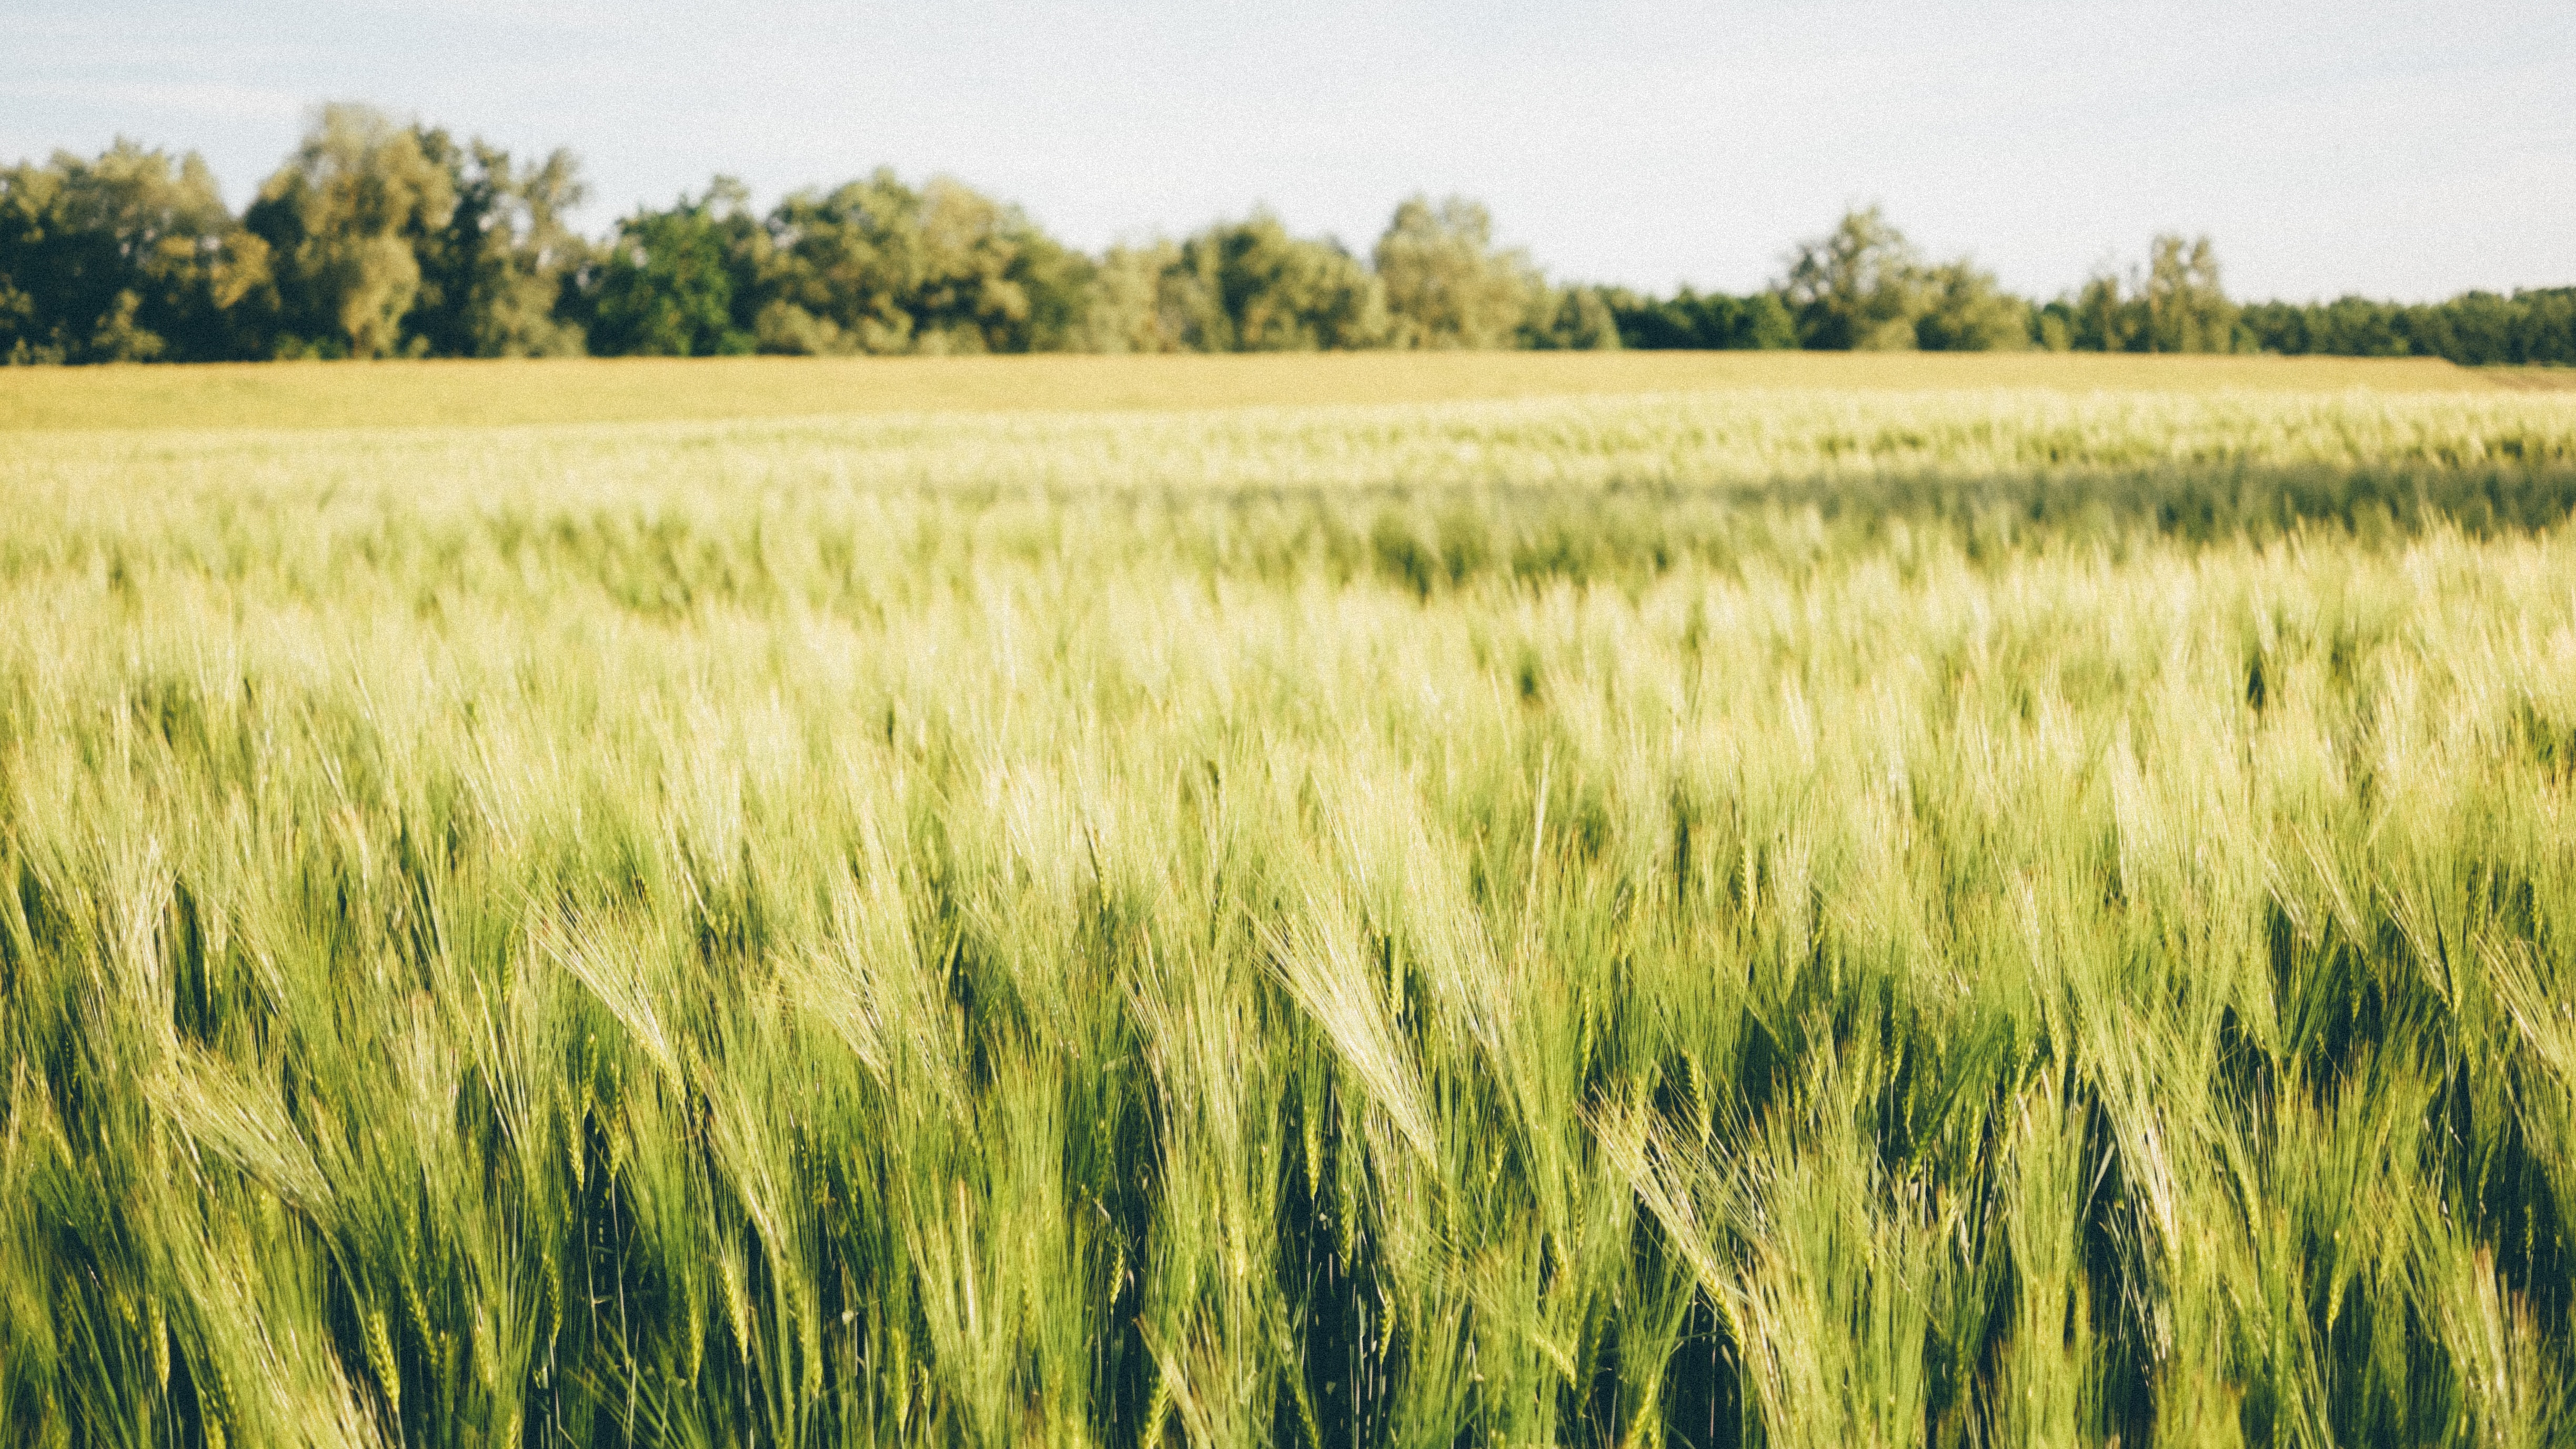Wheat: (1182, 757, 2323, 1281)
